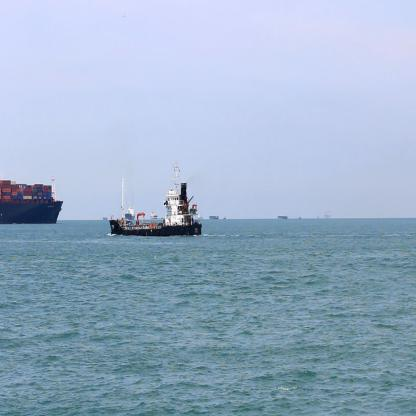Container Ship: (108, 158, 204, 240), (0, 173, 66, 228), (323, 209, 334, 222), (276, 213, 290, 222), (101, 212, 110, 225), (209, 212, 220, 222)
